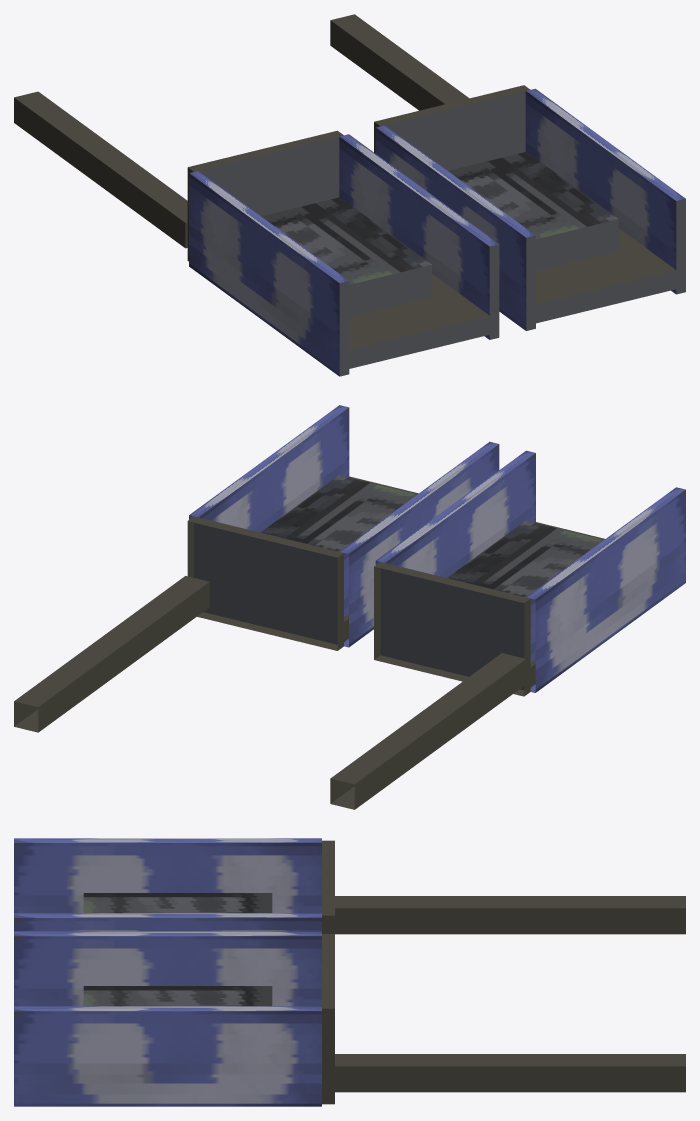
The model's file is pz_native_street_decoration_01_39.obj.
The picture shows the model from 3 angles, top to bottom: view 1: azimuth 30°, elevation 25°; view 2: azimuth 150°, elevation 25°; view 3: azimuth 270°, elevation 25°; orthographic projection. The views are drawn at different scales.
Visible parts, largest first — view 1: pz_native_street_decoration_01_39; view 2: pz_native_street_decoration_01_39; view 3: pz_native_street_decoration_01_39.
Boxes of the visible parts, x1,y1,x2,y2 form: pz_native_street_decoration_01_39: (14, 14, 685, 376); pz_native_street_decoration_01_39: (14, 405, 685, 809); pz_native_street_decoration_01_39: (14, 838, 685, 1106).
Bounding box in the file's own units: 1.06 × 0.2721 × 1.73.
1 material, 1 textured.
